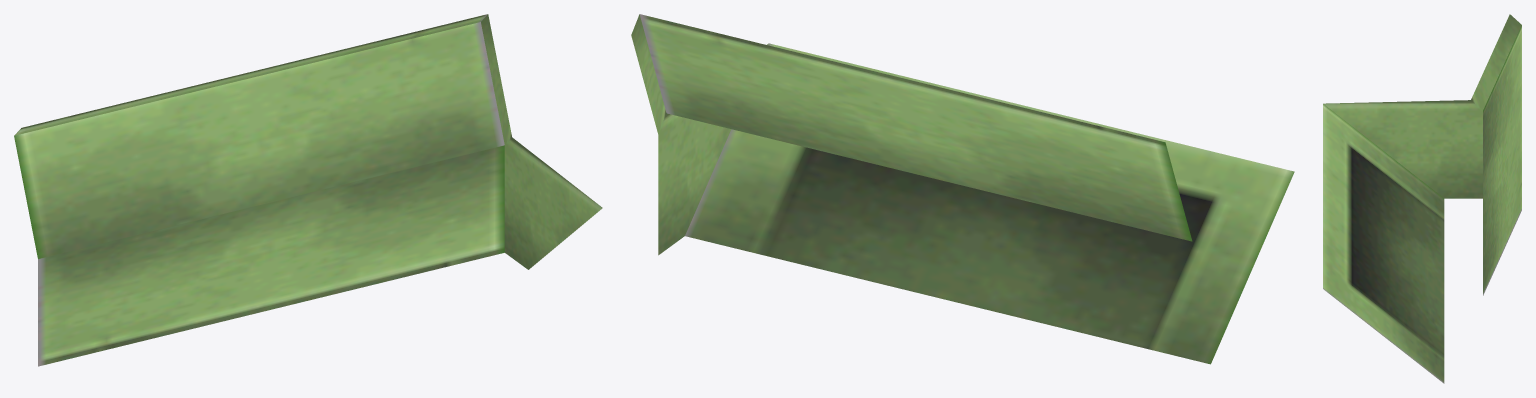
The model's file is bench08.glb.
The picture shows the model from 3 angles, left to right: view 1: azimuth 30°, elevation 25°; view 2: azimuth 150°, elevation 25°; view 3: azimuth 270°, elevation 25°; orthographic projection. The views are drawn at different scales.
Visible parts, largest first — view 1: bench08; view 2: bench08; view 3: bench08.
Boxes of the visible parts, x1=… form: bench08: x1=14, y1=14, x2=602, y2=366; bench08: x1=631, y1=14, x2=1294, y2=364; bench08: x1=1323, y1=14, x2=1521, y2=383.
Size of the model in its own units: 289 by 134 by 131.
1 material, 1 textured.
